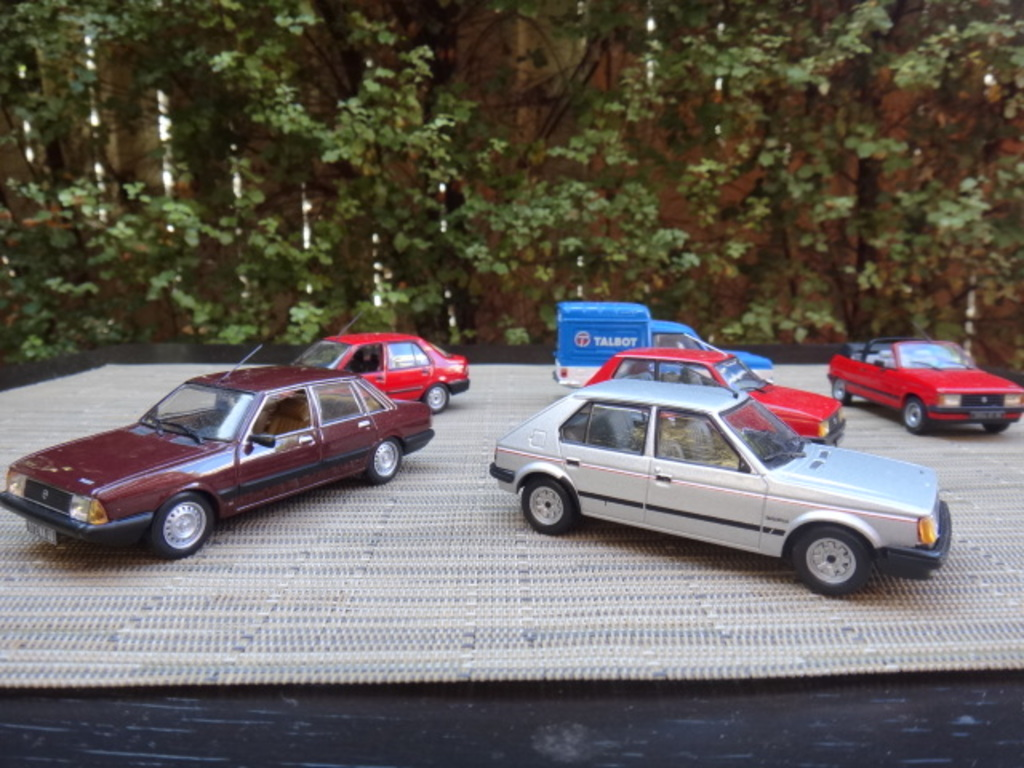Car: (487, 371, 952, 596), (19, 355, 423, 567), (568, 340, 843, 444), (822, 334, 1022, 433), (281, 326, 468, 417)
